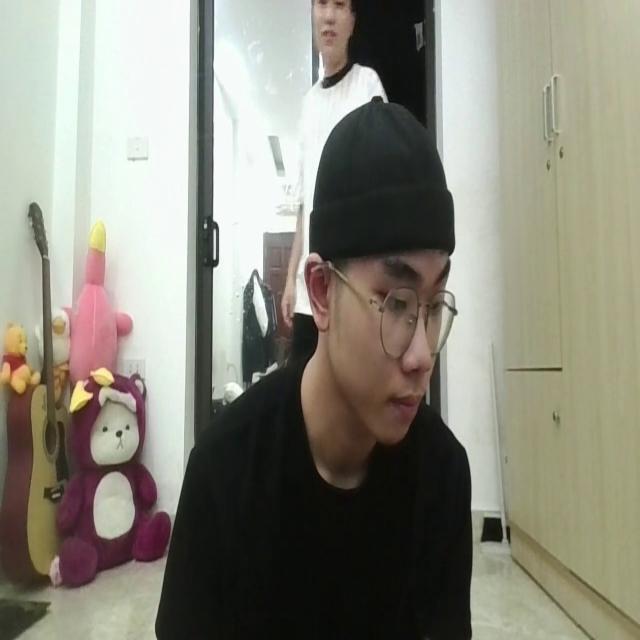extra_person: (296, 0, 372, 123)
student: (151, 99, 492, 640)
